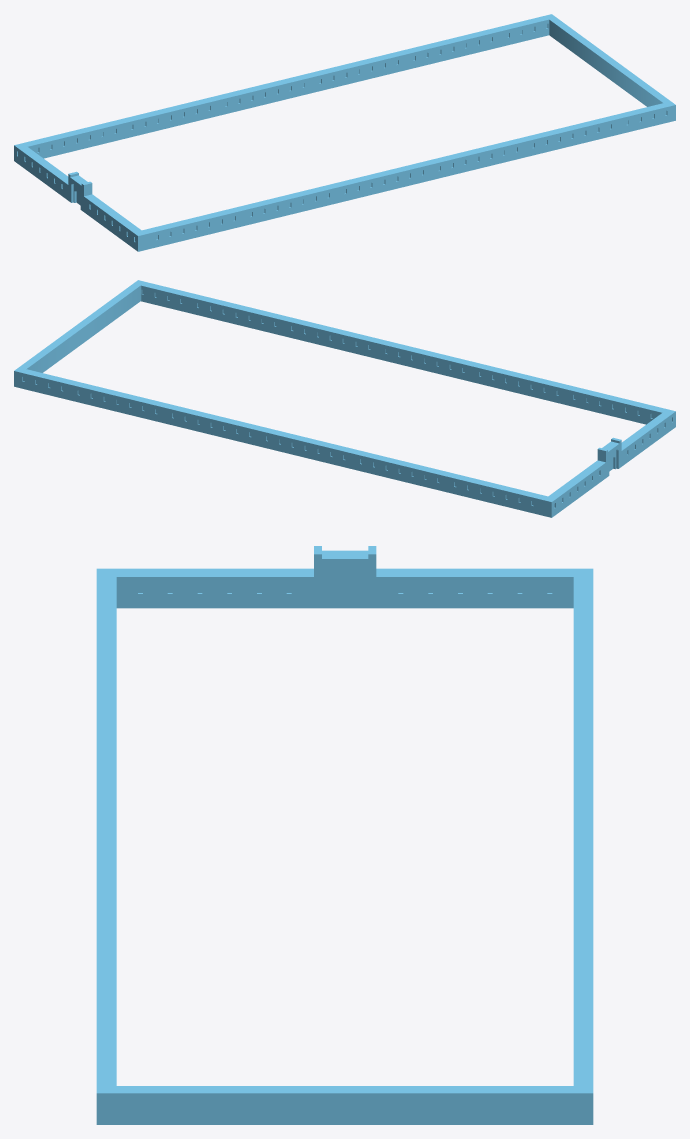
The model's file is OuterWalls.fbx.
The picture shows the model from 3 angles, top to bottom: view 1: azimuth 30°, elevation 25°; view 2: azimuth 150°, elevation 25°; view 3: azimuth 270°, elevation 25°; orthographic projection. The views are drawn at different scales.
Parts seen in each view (by area): view 1: OuterWalls; view 2: OuterWalls; view 3: OuterWalls.
Boxes of the visible parts, x1,y1,x2,y2 form: OuterWalls: (14, 14, 675, 251); OuterWalls: (14, 280, 675, 517); OuterWalls: (96, 546, 593, 1124).
Size of the model in its own units: 9843 by 3937 by 472.
